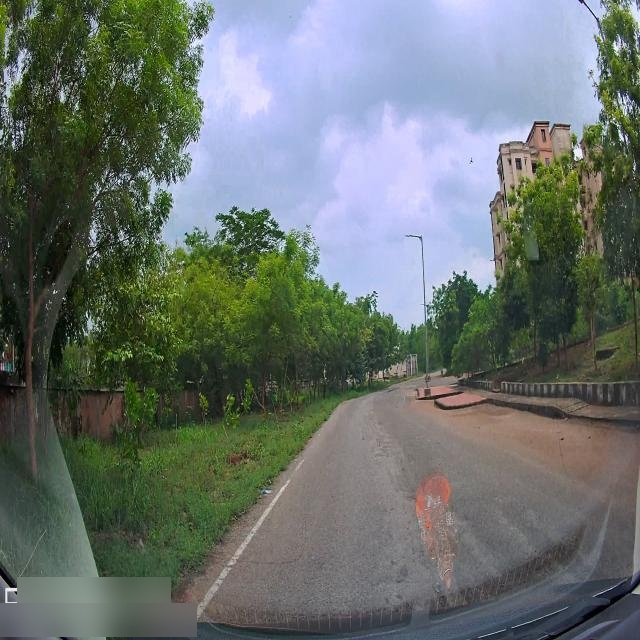pothole: (452, 505, 496, 575), (498, 509, 534, 556), (393, 454, 416, 468), (371, 449, 386, 462), (378, 418, 385, 439)
